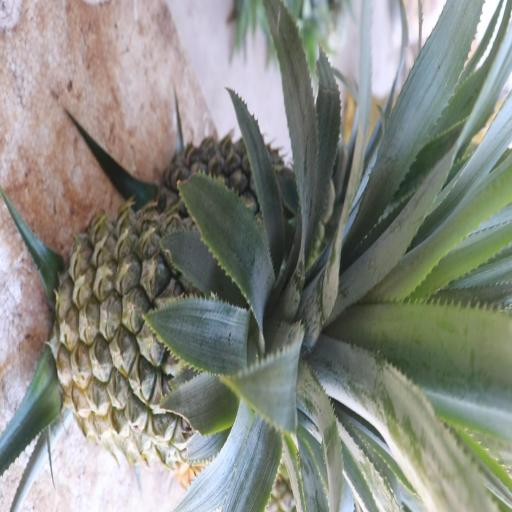------------------------------: (52, 216, 288, 464)
